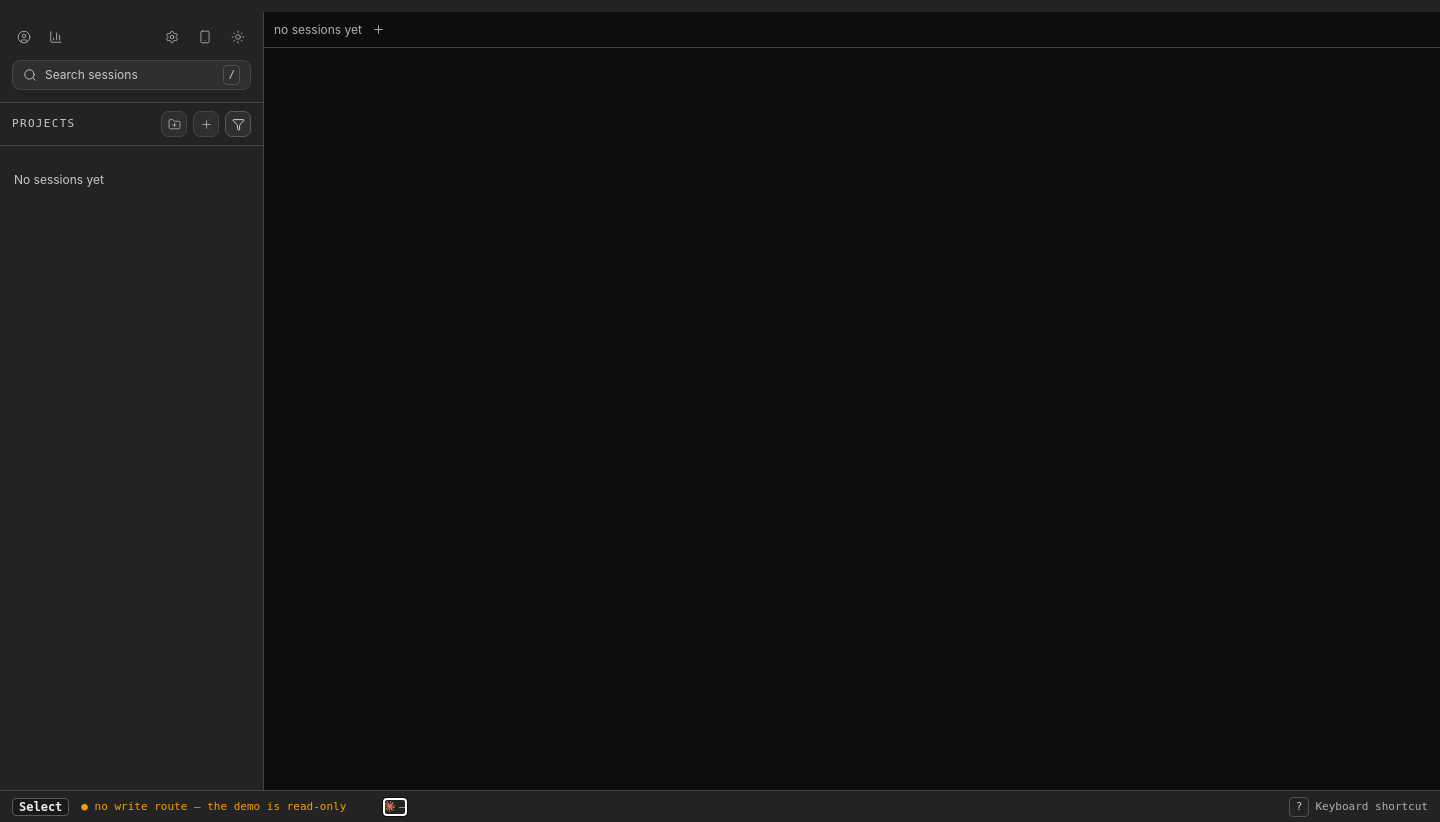
Test: a note nobody can focus is a note nobody can read › gives the usage cell a tab stop when it is explaining an absent number
Focus the button "—" at (395, 806), box x1=384 y1=798 x2=406 y2=814
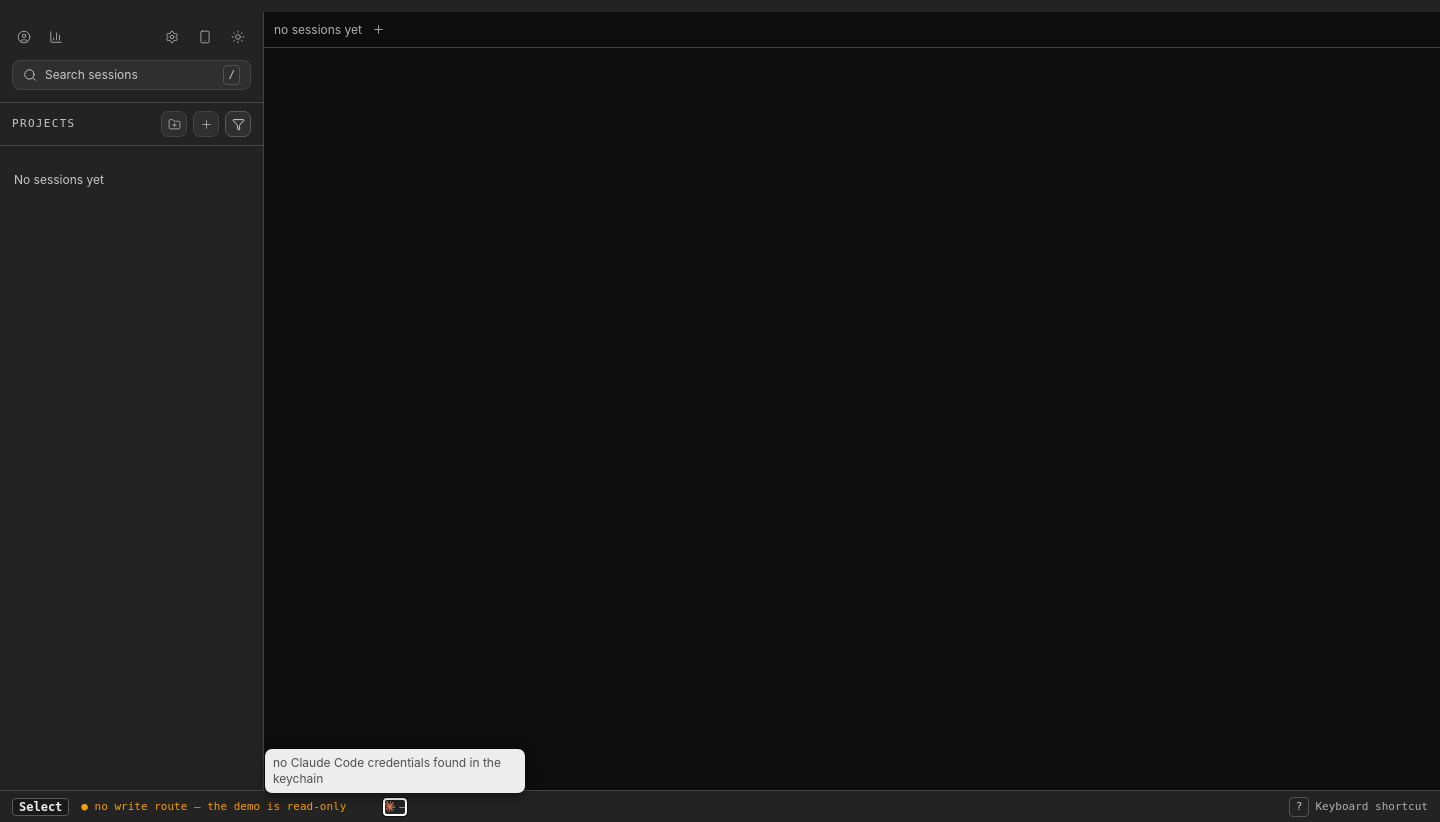
Expected: the tooltip "no Claude Code credentials found in the keychain" is shown, x1=265 y1=749 x2=525 y2=793
